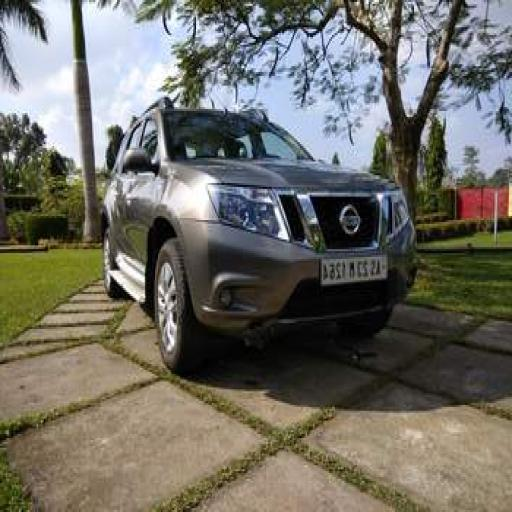License: (320, 251, 390, 286)
